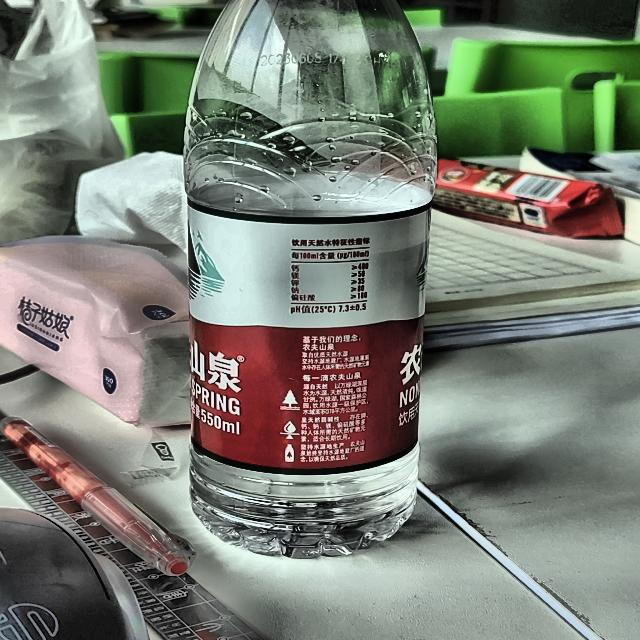plastic: (193, 0, 441, 562)
